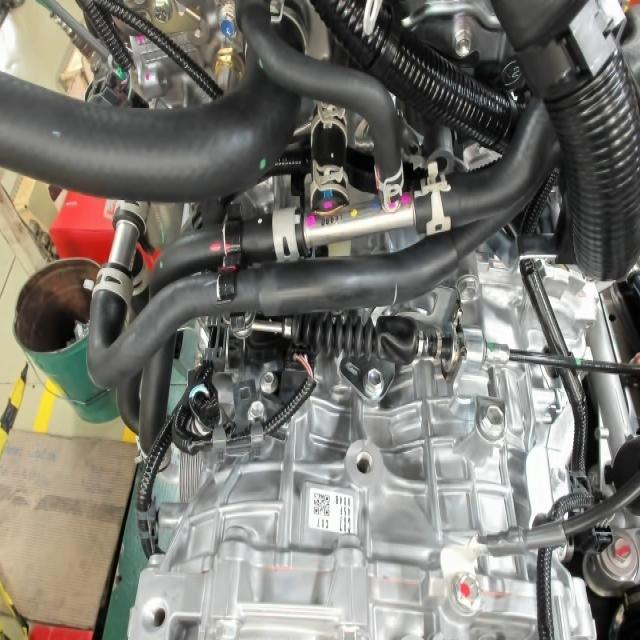Transaxele-C87-A27: (313, 510, 352, 537)
